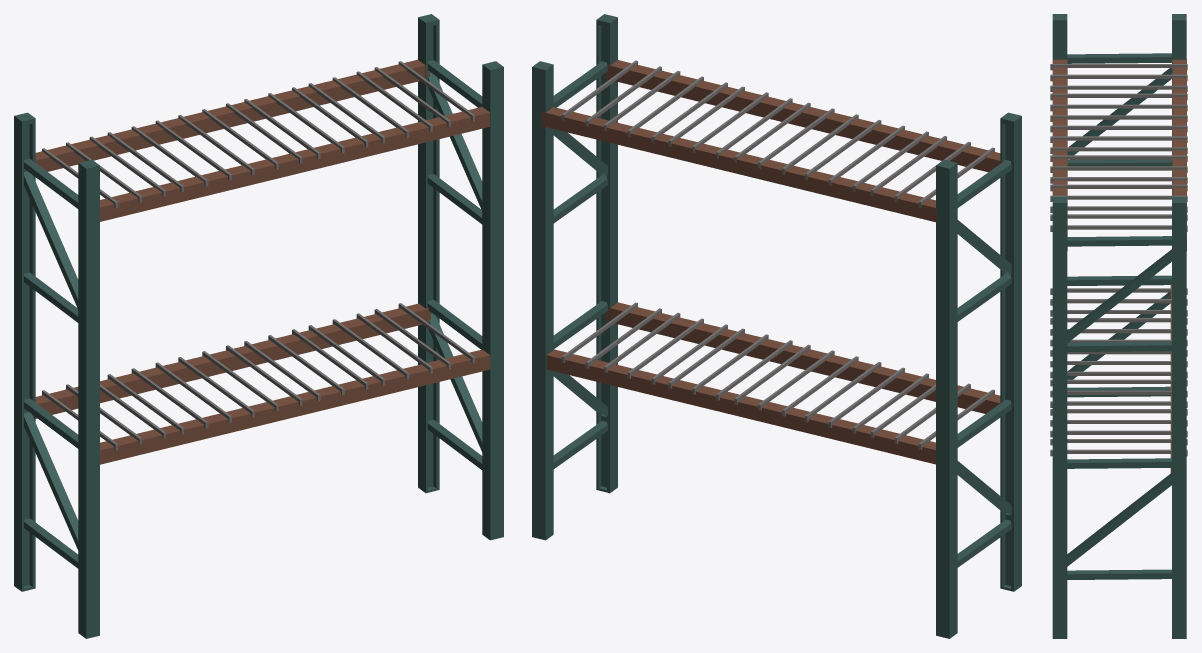
Rendered from FBX_SteelRack.fbx.
3 renders of one model, left to right at view 1: azimuth 30°, elevation 25°; view 2: azimuth 150°, elevation 25°; view 3: azimuth 270°, elevation 25°, orthographic. The views are drawn at different scales.
Visible parts, largest first — view 1: pCube57; view 2: pCube57; view 3: pCube57.
Boxes of the visible parts, x1,y1,x2,y2 form: pCube57: (14, 14, 503, 638); pCube57: (532, 14, 1021, 638); pCube57: (1050, 14, 1187, 638).
Size of the model in its own units: 2.22 by 2.39 by 0.6804.
